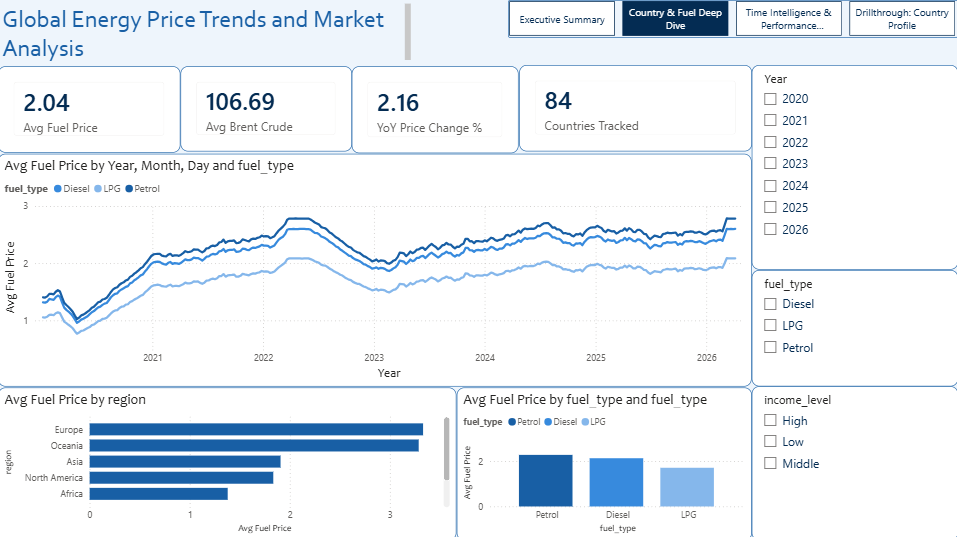

Layout of this report page (visuals, bound fields, positions):
{"tool":"powerbi","page":{"name":"Executive Summary","canvas":[1280,720],"ordinal":0},"visuals":[{"type":"textbox","box":[0,0,555,86.7],"z":0},{"type":"cardVisual","fields":{"Data":["FactFuelPrices.Avg Fuel Price"]},"box":[0,88,243.3,114.9],"z":1000},{"type":"cardVisual","fields":{"Data":["FactFuelPrices.Avg Brent Crude"]},"box":[243.3,88,228.7,113.7],"z":2000},{"type":"cardVisual","fields":{"Data":["FactFuelPrices.YoY Price Change %"]},"box":[472,88,222.6,116.2],"z":3000},{"type":"cardVisual","fields":{"Data":["DimCountry.Countries Tracked"]},"box":[694.6,86.8,310.6,114.9],"z":4000},{"type":"lineChart","fields":{"Y":["FactFuelPrices.Avg Fuel Price"],"Series":["DimFuelType.fuel_type"],"Category":["DimDate.date.Variation.Date Hierarchy.Year","DimDate.date.Variation.Date Hierarchy.Month","DimDate.date.Variation.Date Hierarchy.Day"]},"box":[0,204.2,1005.2,310.6],"z":5000},{"type":"clusteredBarChart","fields":{"Category":["DimCountry.region"],"Y":["FactFuelPrices.Avg Fuel Price"]},"box":[0,516,611.4,204.2],"z":6000},{"type":"columnChart","fields":{"Y":["FactFuelPrices.Avg Fuel Price"],"Series":["DimFuelType.fuel_type"],"Category":["DimFuelType.fuel_type"]},"box":[611.4,516,393.8,204.2],"z":7000},{"type":"slicer","fields":{"Values":["DimDate.Year"]},"box":[1005.2,86.8,275.1,272.7],"z":8000},{"type":"slicer","fields":{"Values":["DimFuelType.fuel_type"]},"box":[1005.2,359.5,275.1,155.3],"z":9000},{"type":"slicer","fields":{"Values":["DimCountry.income_level"]},"box":[1005.2,514.8,275.1,205.4],"z":10000},{"type":"bookmarkNavigator","box":[680,0,600,50],"z":11000}]}

Visuals, with their boxes in screenshot pixels (x1, y1, x2, y2), scaled from the page's 1280x720 canvas onto the 957x537 screenshot:
textbox: (0,0,415,65)
cardVisual - FactFuelPrices.Avg Fuel Price: (0,66,182,151)
cardVisual - FactFuelPrices.Avg Brent Crude: (182,66,353,150)
cardVisual - FactFuelPrices.YoY Price Change %: (353,66,519,152)
cardVisual - DimCountry.Countries Tracked: (519,65,752,150)
lineChart - FactFuelPrices.Avg Fuel Price x DimFuelType.fuel_type: (0,152,752,384)
clusteredBarChart - DimCountry.region x FactFuelPrices.Avg Fuel Price: (0,385,457,536)
columnChart - FactFuelPrices.Avg Fuel Price x DimFuelType.fuel_type: (457,385,752,536)
slicer - DimDate.Year: (752,65,956,268)
slicer - DimFuelType.fuel_type: (752,268,956,384)
slicer - DimCountry.income_level: (752,384,956,536)
bookmarkNavigator: (508,0,956,37)
